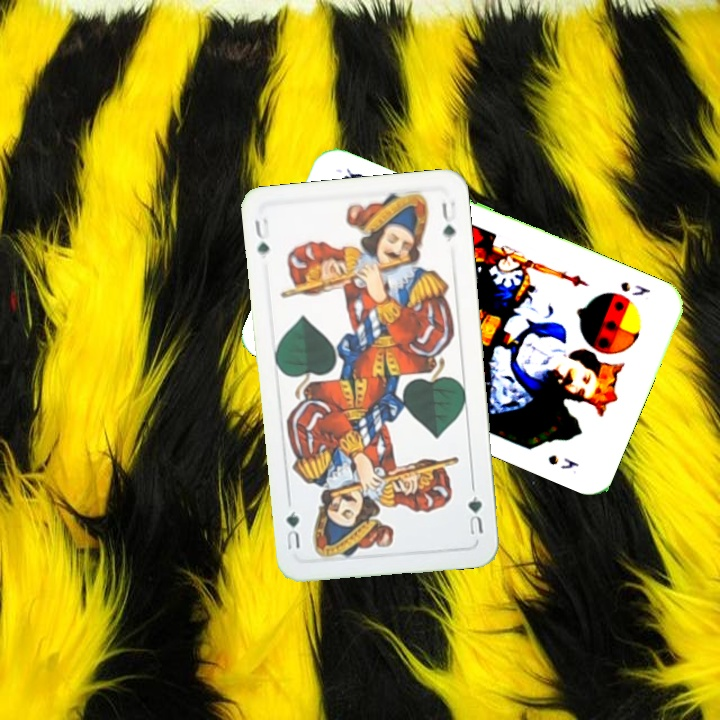GU: (463, 491, 486, 538), (250, 213, 273, 258)
SK: (616, 277, 653, 299)
